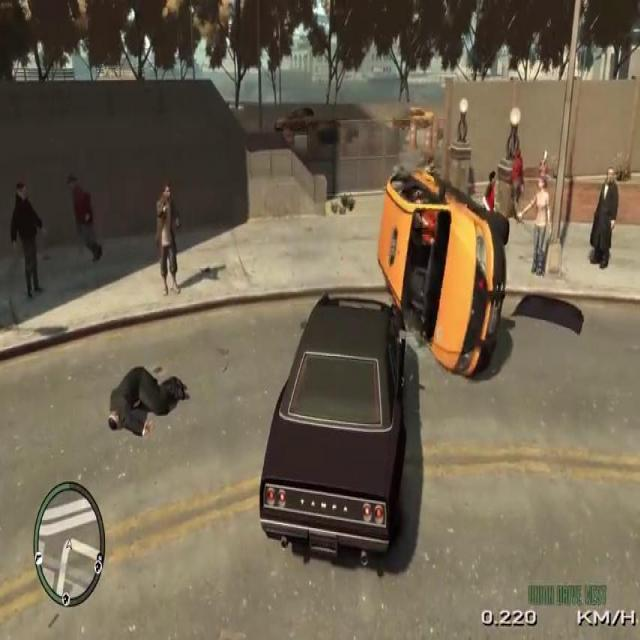high-cars-accident: (367, 133, 525, 372)
victim: (107, 355, 187, 436)
